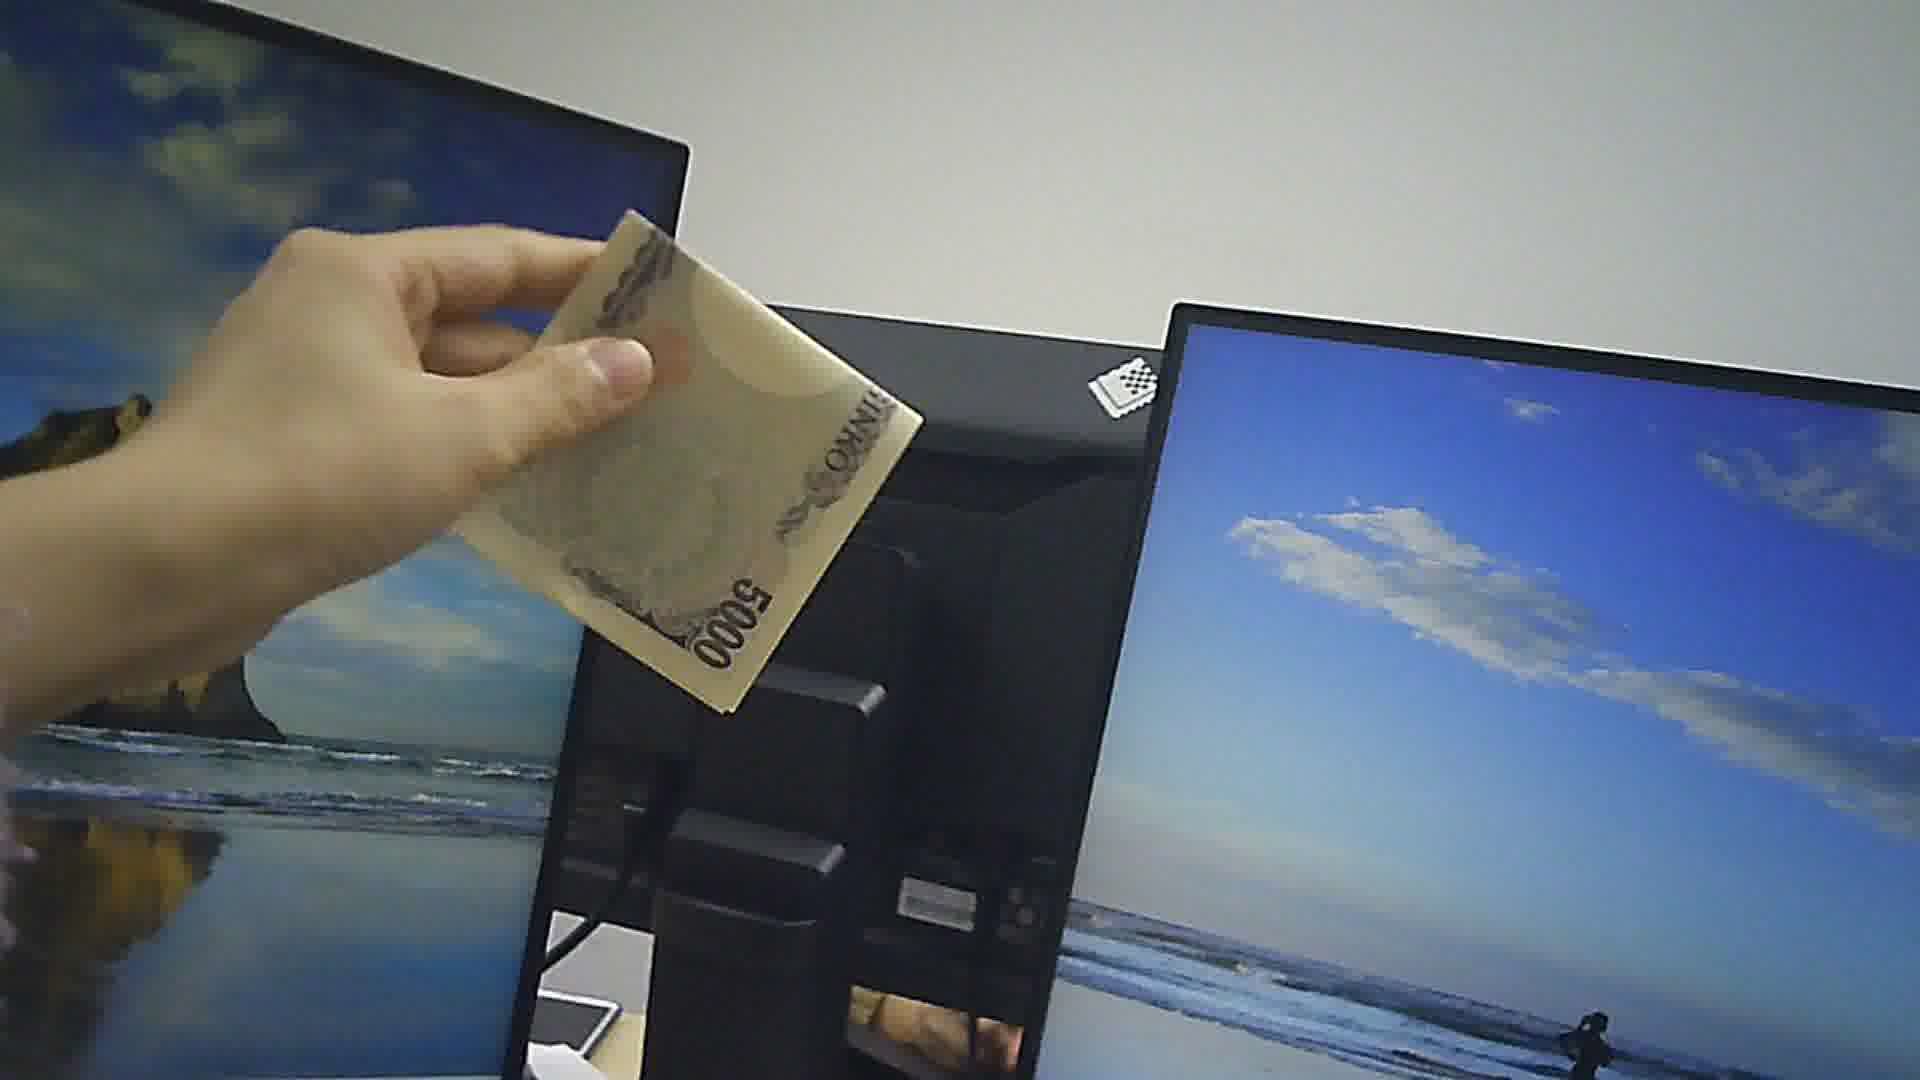5,000 Yen: (442, 193, 918, 713)
